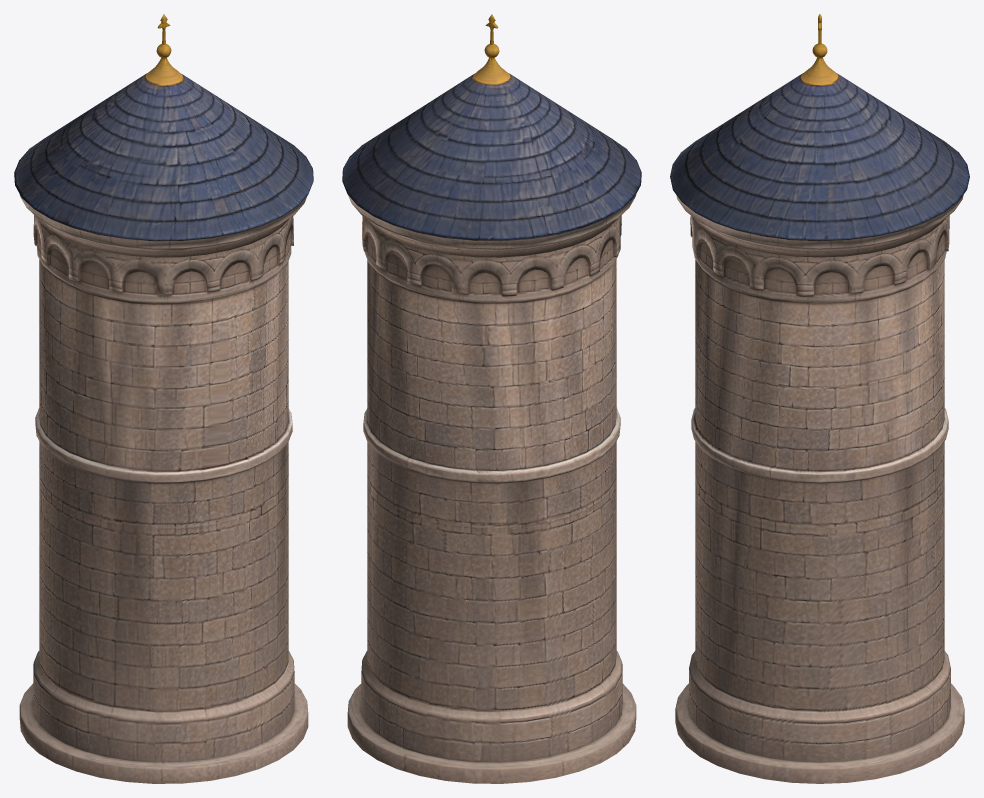
File: Furn_Turret_Small.fbx
3 views of the same model, side by side, from view 1: azimuth 30°, elevation 25°; view 2: azimuth 150°, elevation 25°; view 3: azimuth 270°, elevation 25° (orthographic).
Parts seen in each view (by area): view 1: Furn_Turret_Small; view 2: Furn_Turret_Small; view 3: Furn_Turret_Small.
Boxes of the visible parts, x1,y1,x2,y2 form: Furn_Turret_Small: [14, 14, 313, 783]; Furn_Turret_Small: [342, 14, 641, 783]; Furn_Turret_Small: [670, 14, 969, 783].
Bounding box in the file's own units: 3.07 × 8 × 3.07.
1 material, 1 textured.
